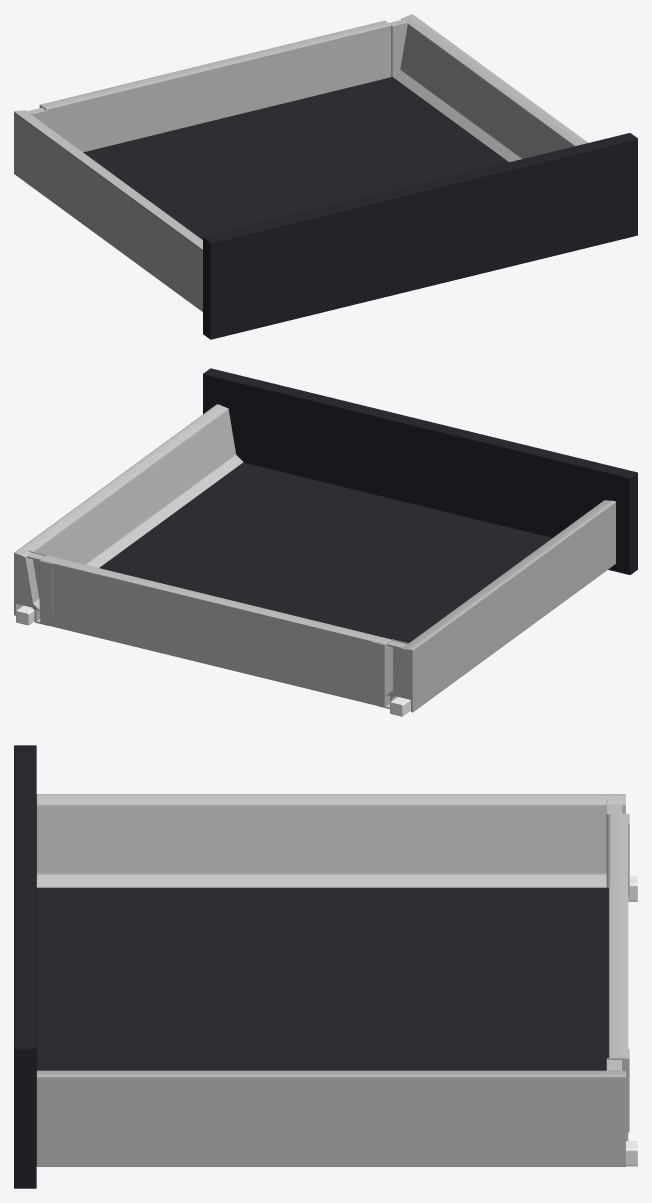
The model's file is Kitchen05Drawer01.obj.
3 renders of one model, top to bottom at view 1: azimuth 30°, elevation 25°; view 2: azimuth 150°, elevation 25°; view 3: azimuth 270°, elevation 25°, orthographic. The views are drawn at different scales.
Parts seen in each view (by area): view 1: SM_Kitchen_05_Base_Drawer_01_41; view 2: SM_Kitchen_05_Base_Drawer_01_41; view 3: SM_Kitchen_05_Base_Drawer_01_41.
Boxes of the visible parts, left/top/right/bottom form: SM_Kitchen_05_Base_Drawer_01_41: left=14, top=14, right=637, bottom=339; SM_Kitchen_05_Base_Drawer_01_41: left=14, top=368, right=637, bottom=716; SM_Kitchen_05_Base_Drawer_01_41: left=14, top=745, right=637, bottom=1188.
Bounding box in the file's own units: 59.69 × 13 × 51.99.
